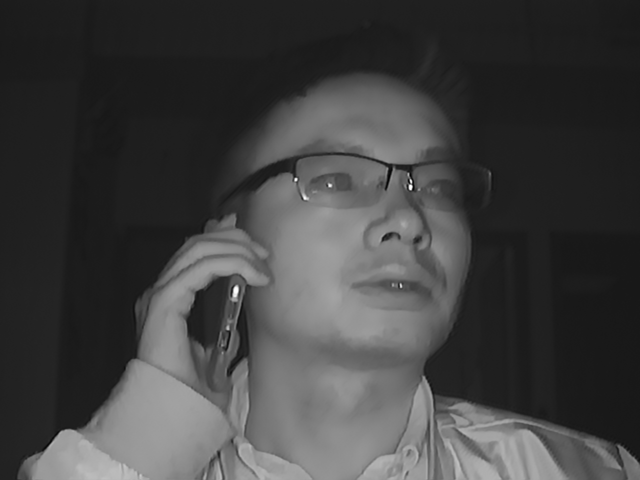hand: (142, 215, 271, 379)
